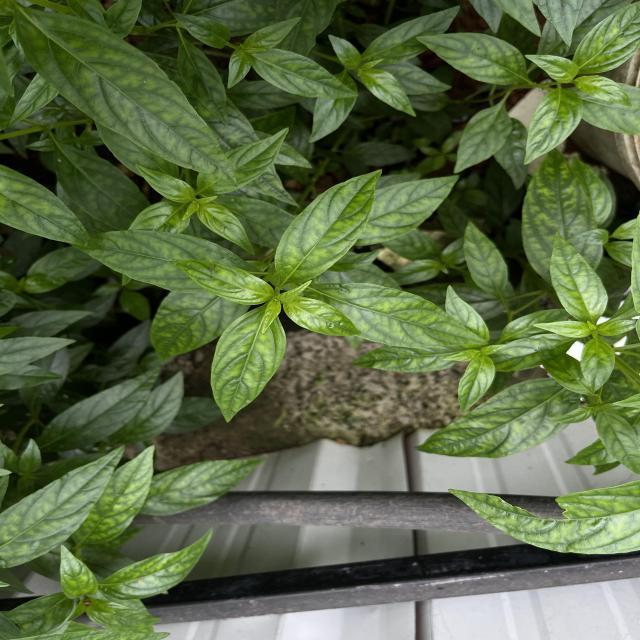Andrographis paniculata: (12, 4, 240, 190), (0, 442, 127, 570), (413, 380, 580, 460), (275, 167, 384, 287), (16, 369, 166, 453), (83, 528, 216, 604), (342, 281, 489, 349), (67, 444, 156, 552), (210, 302, 288, 425), (126, 455, 268, 519), (358, 174, 462, 247), (414, 32, 528, 88), (251, 48, 361, 100), (550, 230, 610, 324), (167, 256, 275, 306), (522, 85, 586, 168), (176, 36, 231, 126), (453, 100, 513, 175), (462, 220, 509, 298), (282, 295, 362, 339), (451, 354, 498, 416), (361, 66, 417, 118), (170, 9, 233, 49), (576, 334, 618, 394)
